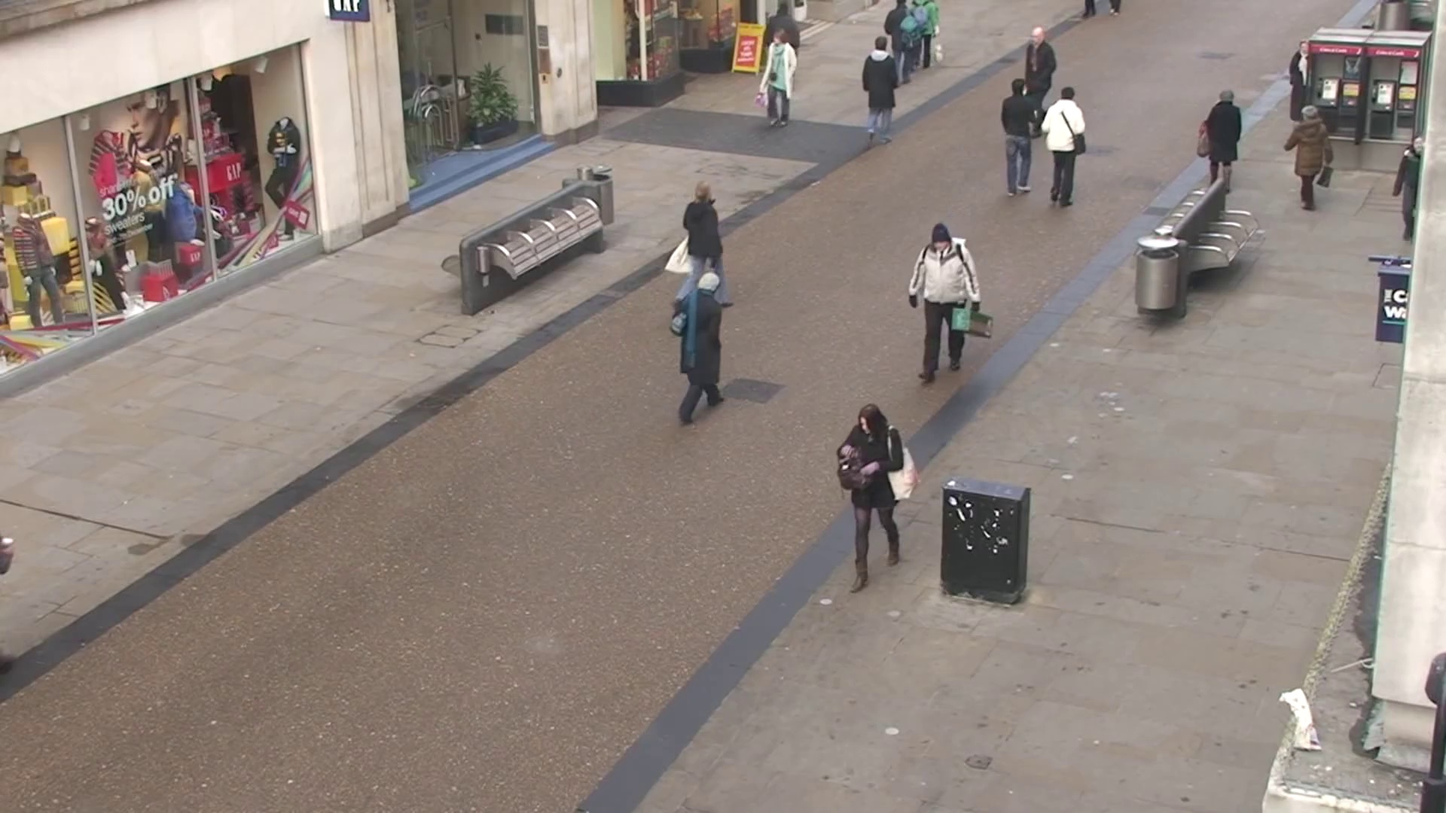person: (837, 403, 916, 591), (908, 223, 981, 382), (670, 257, 731, 426), (1038, 83, 1088, 209), (680, 179, 725, 294), (1287, 105, 1333, 212), (264, 116, 305, 233), (860, 32, 901, 145), (1000, 82, 1040, 196), (1202, 90, 1243, 192), (761, 27, 797, 126), (1024, 24, 1057, 114), (886, 0, 916, 83), (914, 2, 947, 65)
